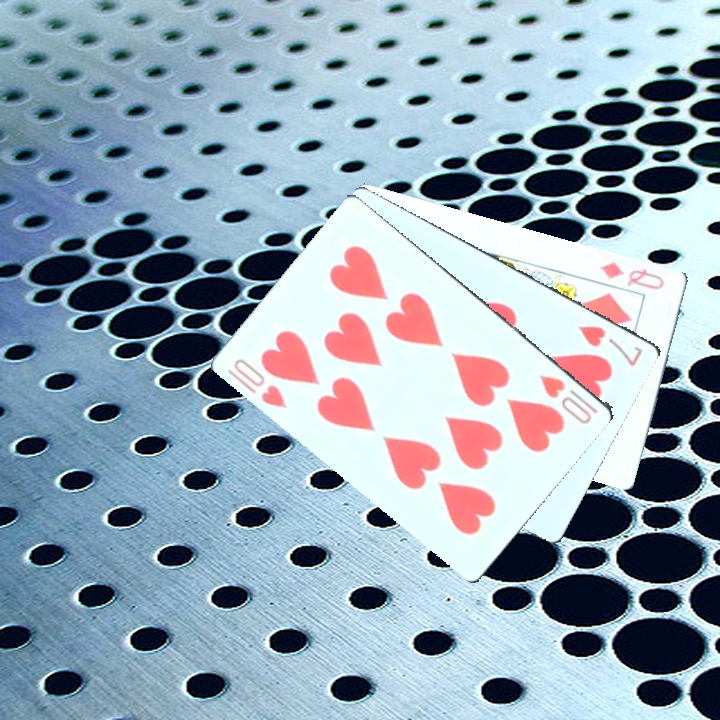10h: (229, 354, 290, 412), (535, 370, 594, 427)
7h: (574, 321, 645, 369)
Qd: (592, 257, 667, 305)
